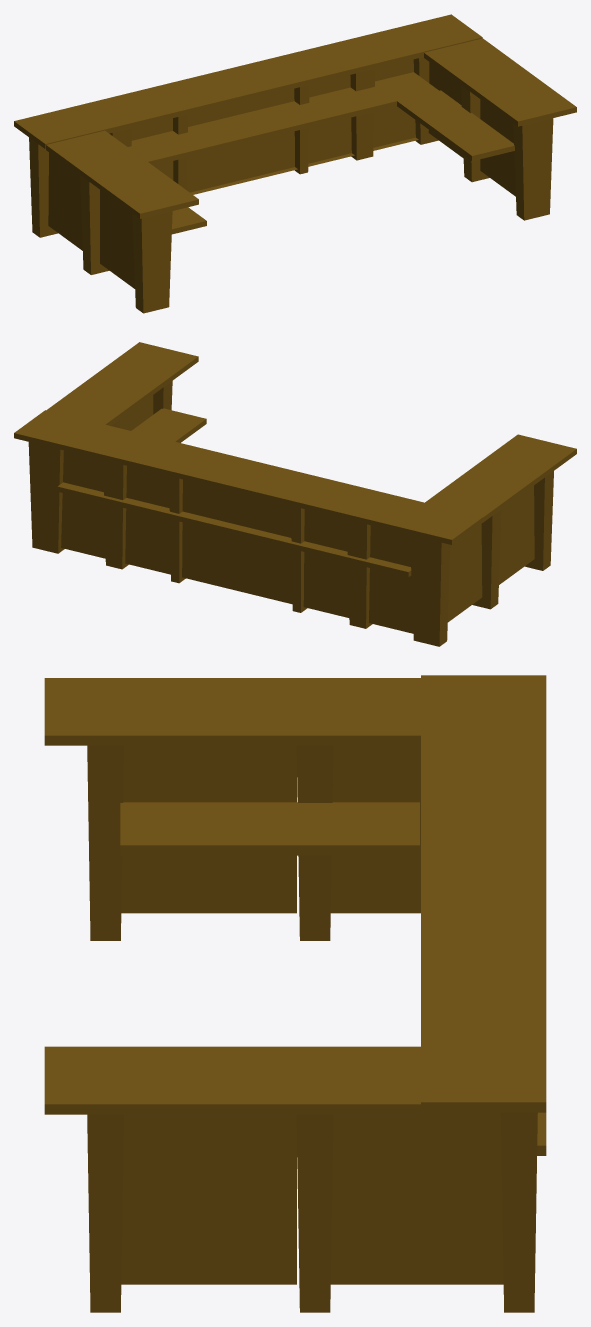
Rendered from reception.fbx.
The picture shows the model from 3 angles, top to bottom: view 1: azimuth 30°, elevation 25°; view 2: azimuth 150°, elevation 25°; view 3: azimuth 270°, elevation 25°; orthographic projection. The views are drawn at different scales.
Visible parts, largest first — view 1: Cube.002, Plane, Cube.011, Cube.006, Cube.007, Cube.008, Plane.002, Cube.010, Plane.001, Cube.001, Cube, Cube.004 (+2 smaller); view 2: Plane, Cube.002, Cube, Cube.008, Cube.007, Cube.004, Cube.011, Plane.002, Cube.003, Plane.001, Cube.006, Cube.001 (+1 smaller); view 3: Cube.002, Plane.002, Plane.001, Cube.007, Cube.008, Cube.009, Cube.006, Cube.001, Cube.
Boxes of the visible parts, <box> form: Cube.002: <box>14,14,482,149</box>; Plane: <box>131,59,418,194</box>; Cube.011: <box>128,72,438,165</box>; Cube.006: <box>132,118,553,313</box>; Cube.007: <box>424,38,576,126</box>; Cube.008: <box>46,130,198,218</box>; Plane.002: <box>100,99,515,288</box>; Cube.010: <box>397,90,514,161</box>; Plane.001: <box>48,62,463,250</box>; Cube.001: <box>80,85,489,274</box>; Cube: <box>29,57,438,237</box>; Cube.004: <box>109,69,375,160</box>; Plane: <box>61,450,413,633</box>; Cube.002: <box>14,410,483,544</box>; Cube: <box>28,442,450,646</box>; Cube.008: <box>425,434,576,522</box>; Cube.007: <box>47,342,198,425</box>; Cube.004: <box>103,460,372,628</box>; Cube.011: <box>57,482,411,577</box>; Plane.002: <box>120,395,534,584</box>; Cube.003: <box>169,476,307,612</box>; Plane.001: <box>447,523,482,622</box>; Cube.006: <box>153,381,553,570</box>; Cube.001: <box>111,419,501,609</box>; Cube.002: <box>421,675,546,1112</box>; Plane.002: <box>121,745,296,1284</box>; Plane.001: <box>330,745,503,1284</box>; Cube.007: <box>44,1046,420,1114</box>; Cube.008: <box>44,678,420,745</box>; Cube.009: <box>120,802,419,855</box>; Cube.006: <box>87,745,124,1312</box>; Cube.001: <box>296,745,333,1312</box>; Cube: <box>500,1112,537,1312</box>.
Size of the model in its own units: 2702 by 665 by 1342.
